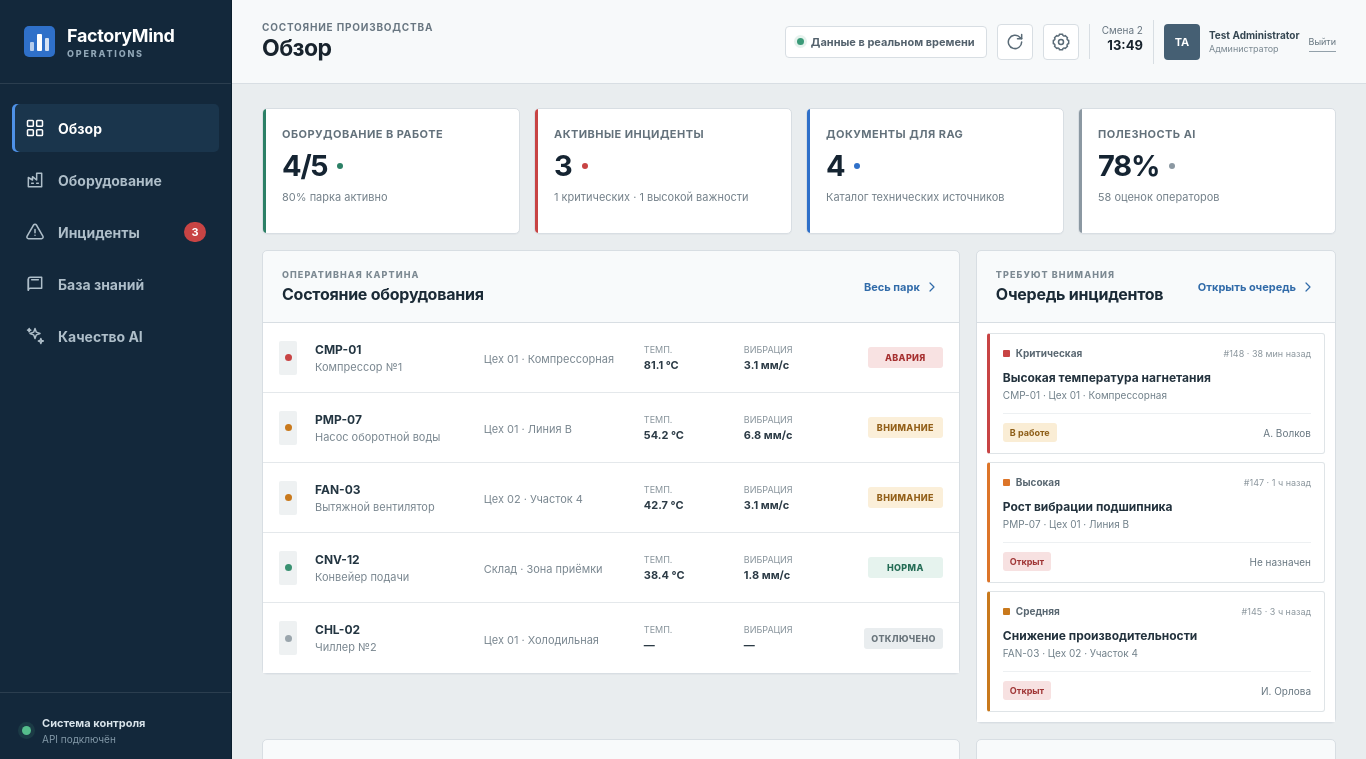
Test: Машинные ключи оборудования › отзывает активный ключ после подтверждения
Expected: the text "Данные в реальном времени" is shown, [785, 26, 987, 58]
Click the button "Оборудование" at (116, 180), box [12, 156, 219, 204]
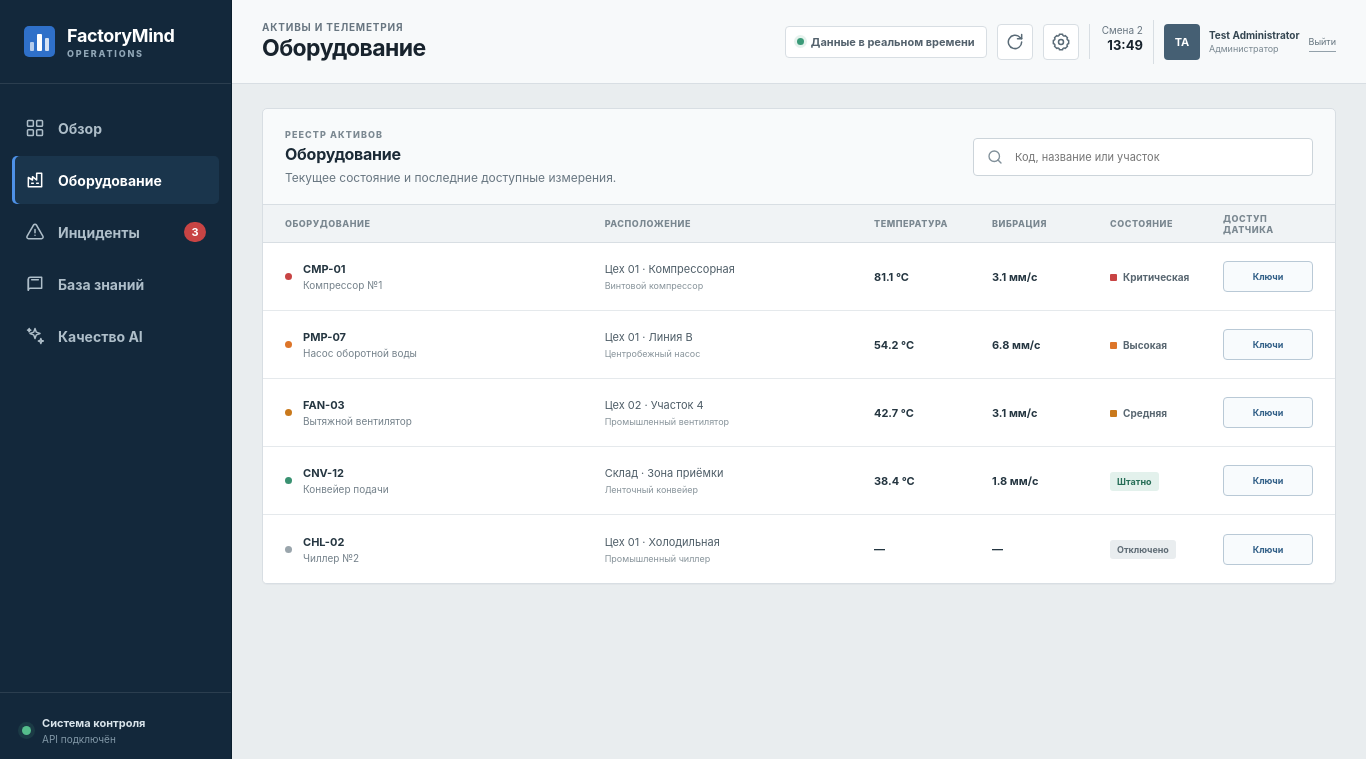
Click the button "Ключи" next to "Критическая" at (1268, 276), box [1223, 261, 1313, 292]
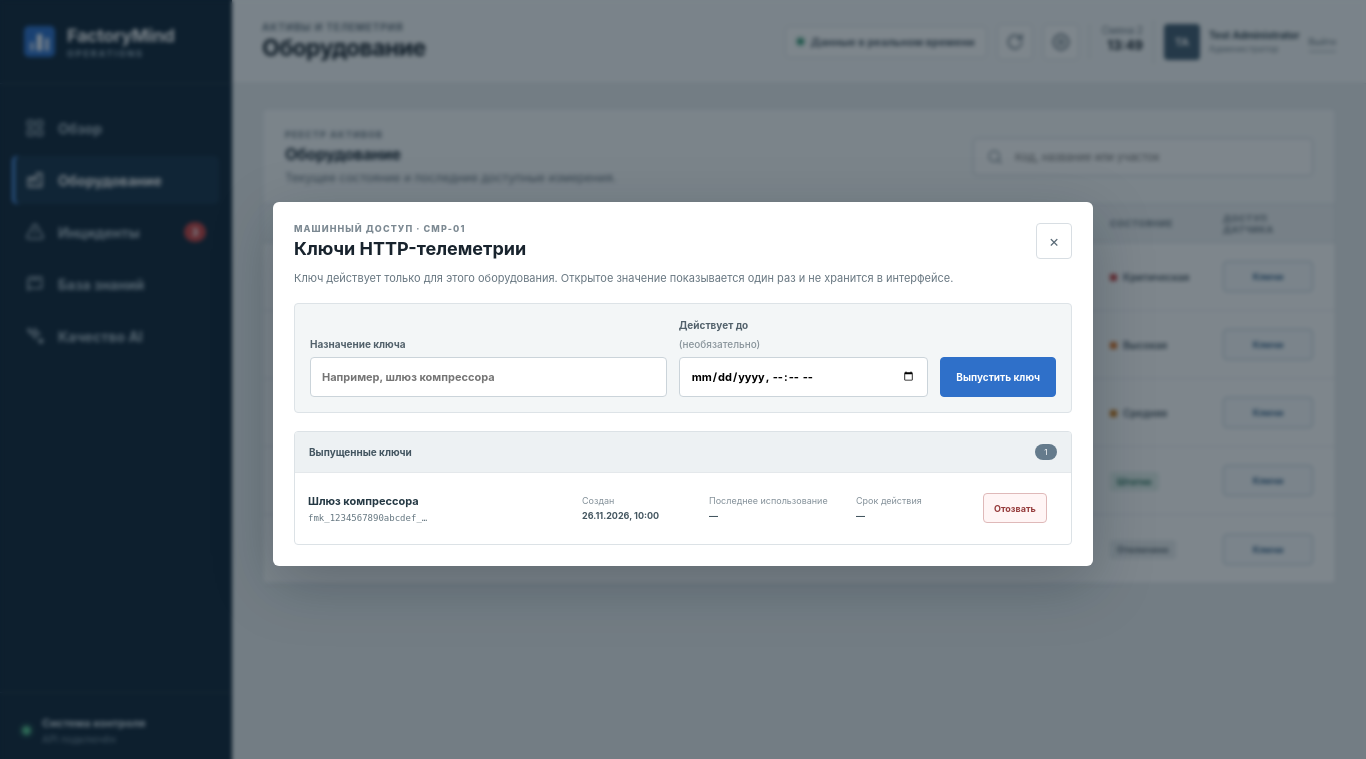
Click the button "Отозвать" at (1015, 508), box [983, 493, 1047, 523]
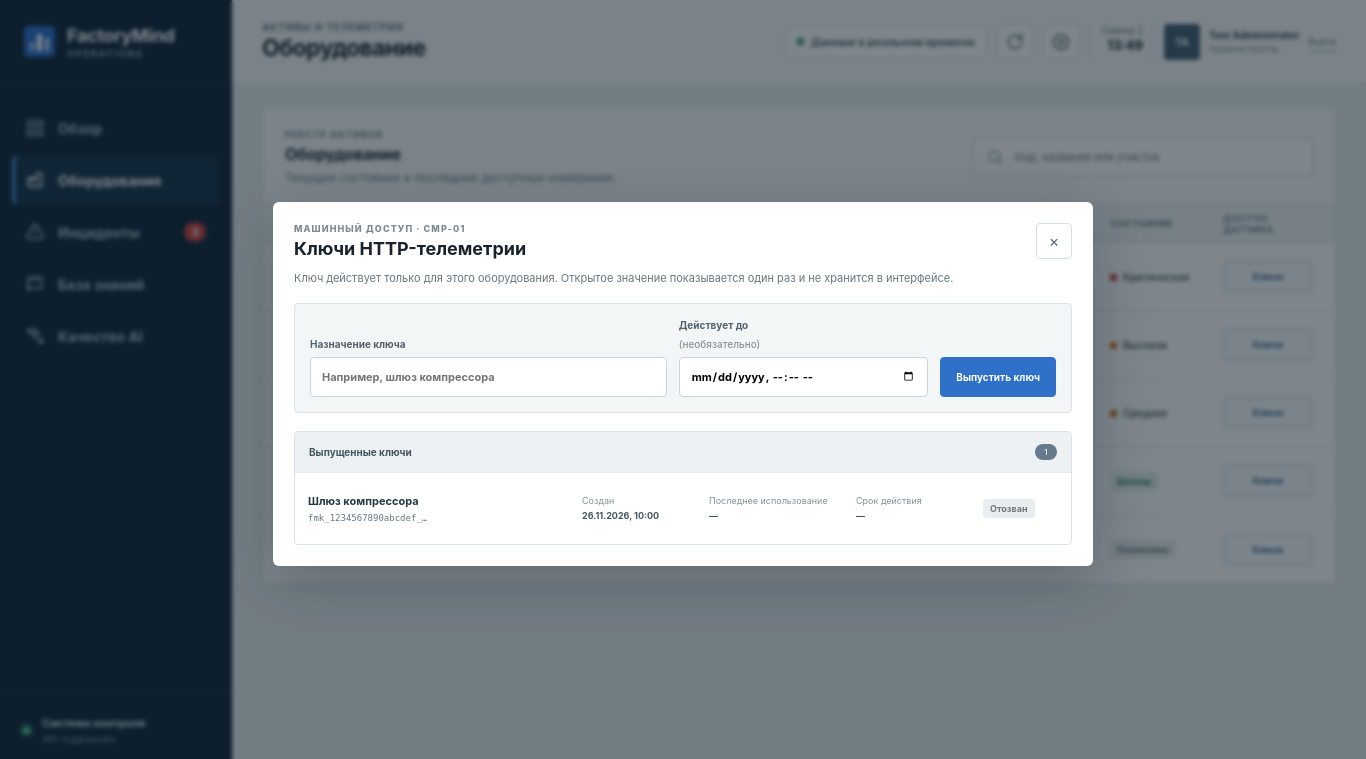
Result: the text "Отозван" is shown at [983, 498, 1034, 518]
